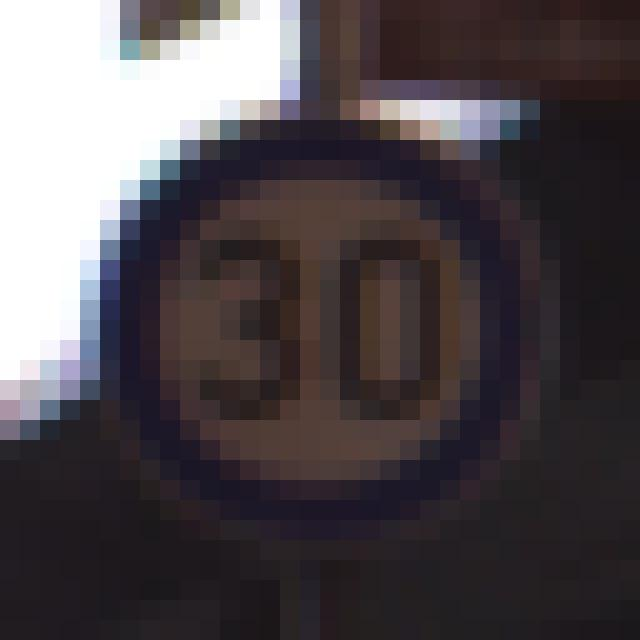SPEED LIMIT 30: (118, 168, 548, 522)
